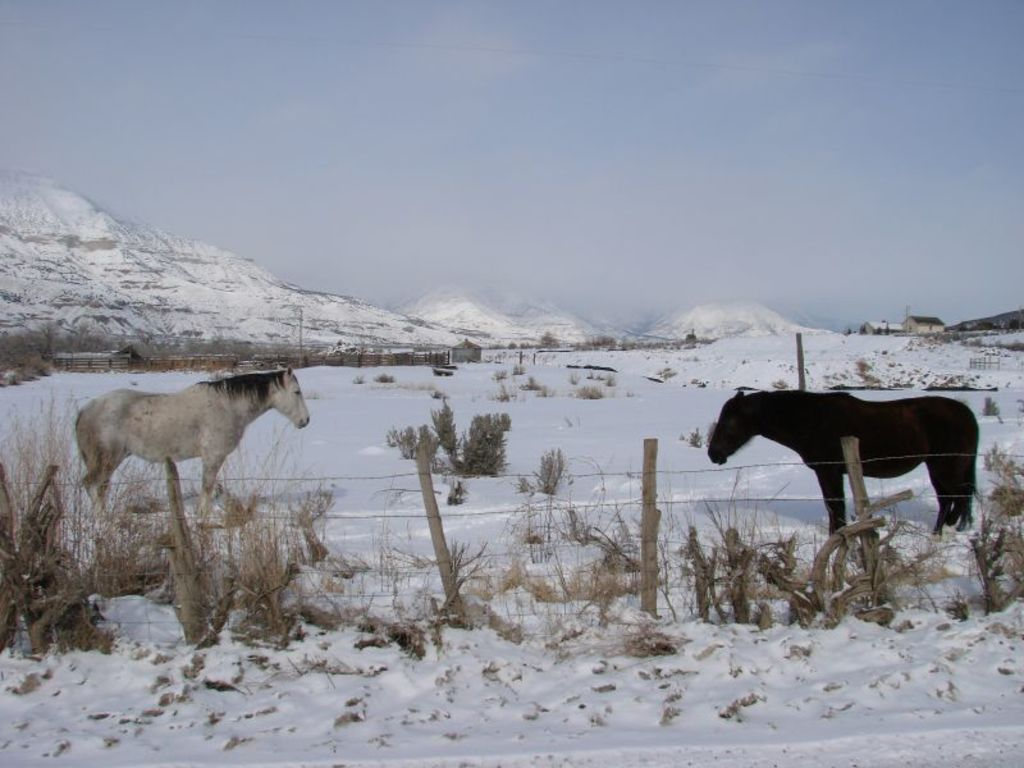horse: (75, 363, 312, 524)
